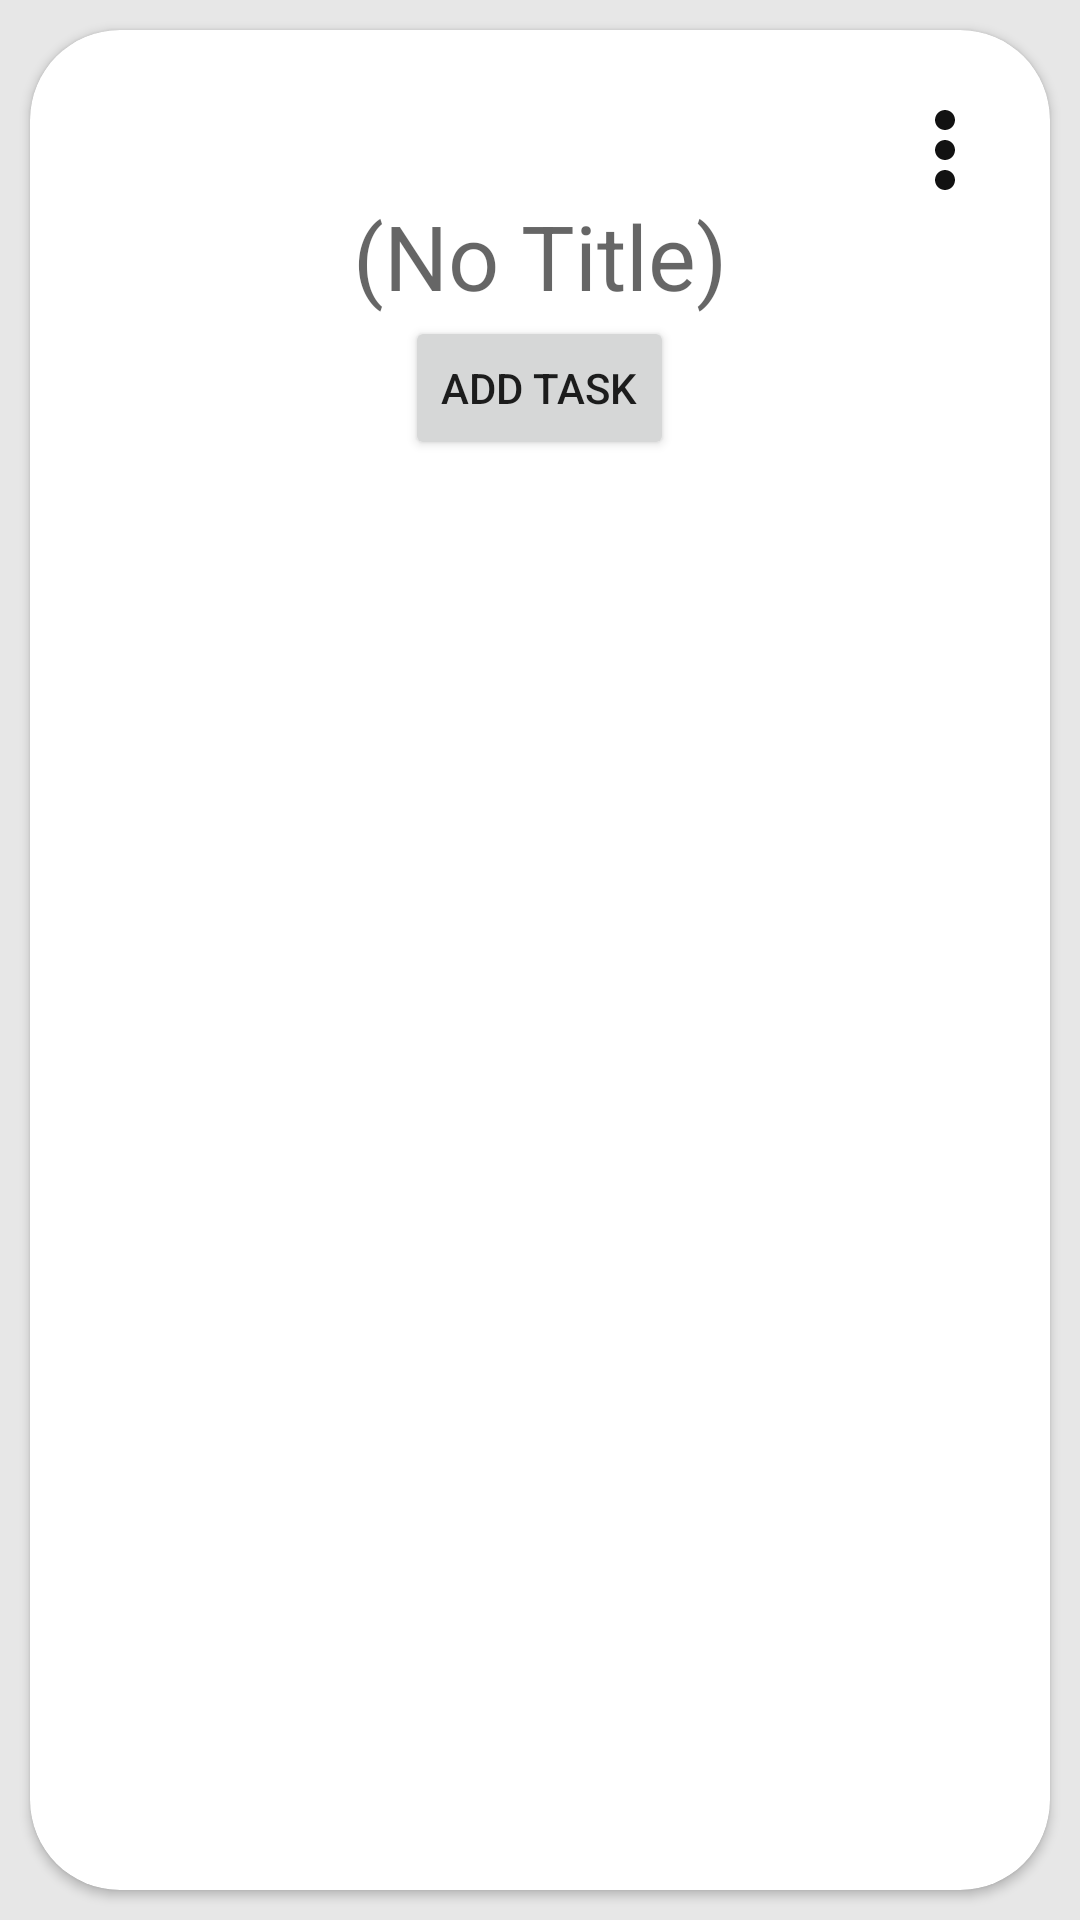

Screen size 1080×1920. Icon name, then its center in pixels as [x,y]:
task options: [945,150]
